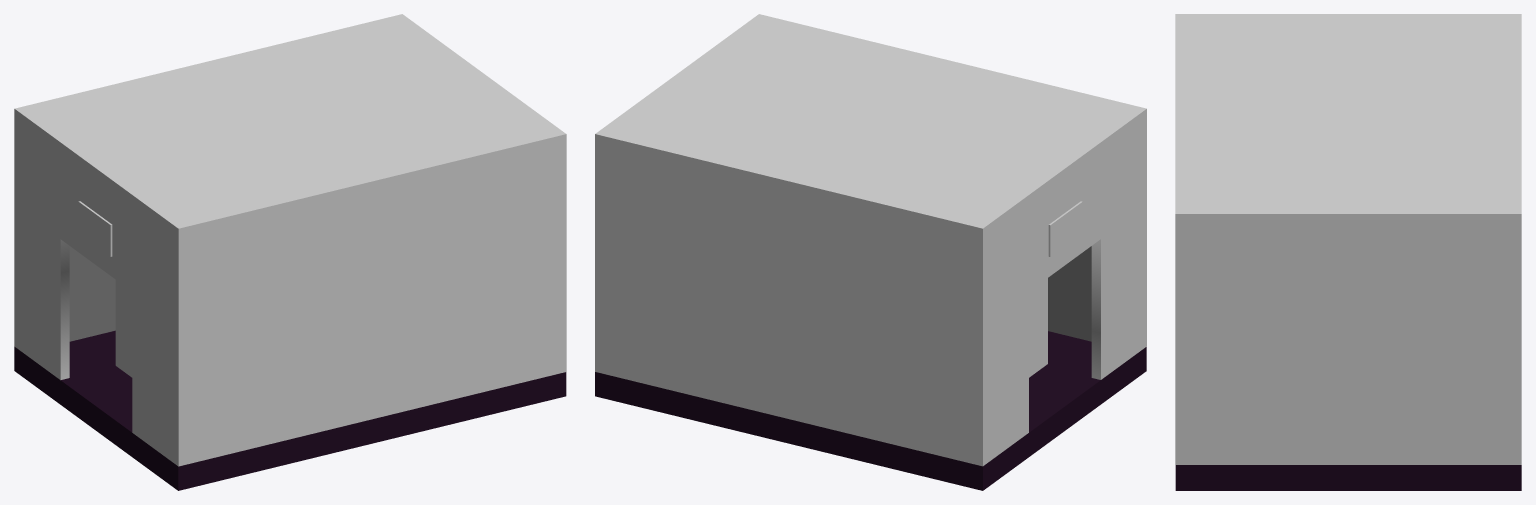
Rendered from Garage.fbx.
3 renders of one model, left to right at view 1: azimuth 30°, elevation 25°; view 2: azimuth 150°, elevation 25°; view 3: azimuth 270°, elevation 25°, orthographic. The views are drawn at different scales.
Visible parts, largest first — view 1: Garage-Wall-outside, Garage-Roof, Garage-Wall-Inside, Garage-Wall, Garage-Sign; view 2: Garage-Wall-outside, Garage-Roof, Garage-Wall-Inside, Garage-Wall, Garage-Sign; view 3: Garage-Wall-outside, Garage-Roof, Garage-Wall-Inside.
Part boxes in pixels (x1=…): Garage-Wall-outside: x1=14, y1=115, x2=566, y2=466; Garage-Roof: x1=14, y1=14, x2=566, y2=235; Garage-Wall-Inside: x1=14, y1=246, x2=566, y2=490; Garage-Wall: x1=115, y1=280, x2=132, y2=377; Garage-Sign: x1=78, y1=201, x2=112, y2=256; Garage-Wall-outside: x1=595, y1=115, x2=1146, y2=466; Garage-Roof: x1=595, y1=14, x2=1146, y2=235; Garage-Wall-Inside: x1=595, y1=246, x2=1146, y2=490; Garage-Wall: x1=1029, y1=278, x2=1047, y2=377; Garage-Sign: x1=1048, y1=201, x2=1082, y2=256; Garage-Wall-outside: x1=1175, y1=220, x2=1521, y2=464; Garage-Roof: x1=1175, y1=14, x2=1521, y2=221; Garage-Wall-Inside: x1=1175, y1=465, x2=1521, y2=490.
Bounding box in the file's own units: 22.99 × 14.79 × 16.76.
